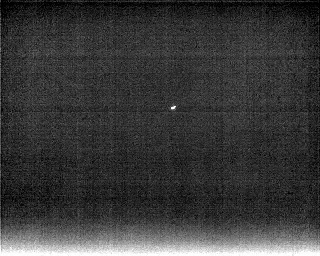BIRD: (169, 103, 178, 112)
